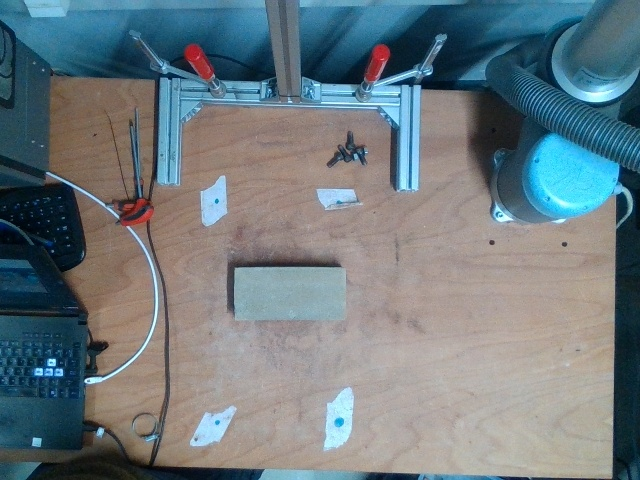brick: (235, 269, 344, 318)
